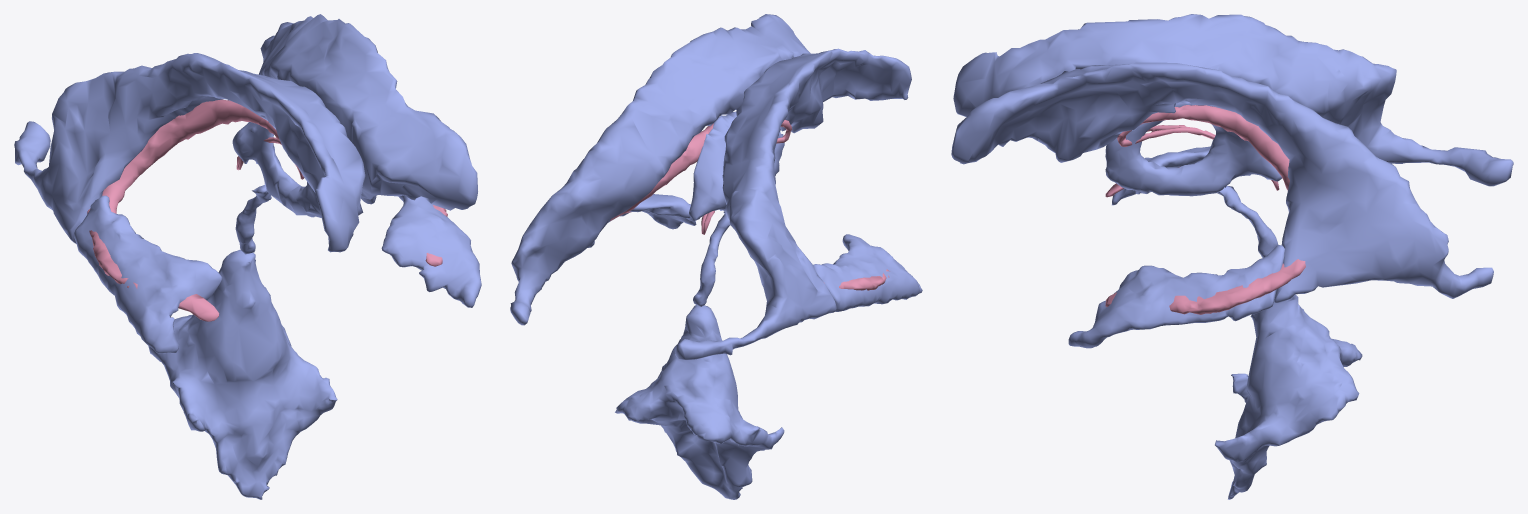
Rendered from ventricles.lod1.glb.
The picture shows the model from 3 angles, left to right: view 1: azimuth 30°, elevation 25°; view 2: azimuth 150°, elevation 25°; view 3: azimuth 270°, elevation 25°; orthographic projection. The views are drawn at different scales.
Visible parts, largest first — view 1: lateral-ventricle-r, fourth-ventricle, lateral-ventricle-l, temporal-horn-of-lateral-ventricle-r, temporal-horn-of-lateral-ventricle-l, choroid-plexus-of-cerebral-hemisphere, third-ventricle, aqueduct; view 2: lateral-ventricle-l, lateral-ventricle-r, fourth-ventricle, temporal-horn-of-lateral-ventricle-r, third-ventricle, choroid-plexus-of-cerebral-hemisphere, temporal-horn-of-lateral-ventricle-l, aqueduct; view 3: lateral-ventricle-l, lateral-ventricle-r, fourth-ventricle, temporal-horn-of-lateral-ventricle-l, third-ventricle, choroid-plexus-of-cerebral-hemisphere, aqueduct, temporal-horn-of-lateral-ventricle-r.
Part boxes in pixels (x1=…): lateral-ventricle-r: x1=14, y1=53, x2=365, y2=252; fourth-ventricle: x1=148, y1=249, x2=337, y2=499; lateral-ventricle-l: x1=228, y1=14, x2=477, y2=210; temporal-horn-of-lateral-ventricle-r: x1=74, y1=195, x2=222, y2=353; temporal-horn-of-lateral-ventricle-l: x1=381, y1=195, x2=481, y2=307; choroid-plexus-of-cerebral-hemisphere: x1=87, y1=99, x2=447, y2=321; third-ventricle: x1=232, y1=122, x2=321, y2=218; aqueduct: x1=235, y1=184, x2=271, y2=254; lateral-ventricle-l: x1=510, y1=14, x2=810, y2=325; lateral-ventricle-r: x1=675, y1=48, x2=911, y2=360; fourth-ventricle: x1=615, y1=305, x2=784, y2=499; temporal-horn-of-lateral-ventricle-r: x1=813, y1=234, x2=922, y2=311; third-ventricle: x1=689, y1=111, x2=784, y2=220; choroid-plexus-of-cerebral-hemisphere: x1=610, y1=120, x2=889, y2=290; temporal-horn-of-lateral-ventricle-l: x1=620, y1=194, x2=699, y2=229; aqueduct: x1=693, y1=211, x2=730, y2=306; lateral-ventricle-l: x1=951, y1=62, x2=1493, y2=302; lateral-ventricle-r: x1=953, y1=14, x2=1513, y2=186; fourth-ventricle: x1=1215, y1=290, x2=1362, y2=499; temporal-horn-of-lateral-ventricle-l: x1=1068, y1=245, x2=1284, y2=348; third-ventricle: x1=1105, y1=102, x2=1281, y2=196; choroid-plexus-of-cerebral-hemisphere: x1=1105, y1=105, x2=1305, y2=314; aqueduct: x1=1216, y1=186, x2=1278, y2=257; temporal-horn-of-lateral-ventricle-r: x1=1112, y1=146, x2=1210, y2=205.
Bounding box in the file's own units: 0.0754 × 0.1021 × 0.1108.
